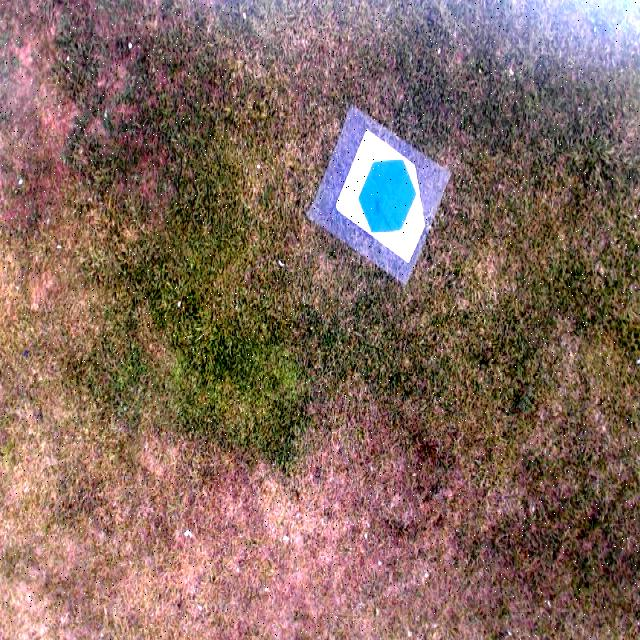blue_hexagon: (358, 158, 417, 234)
